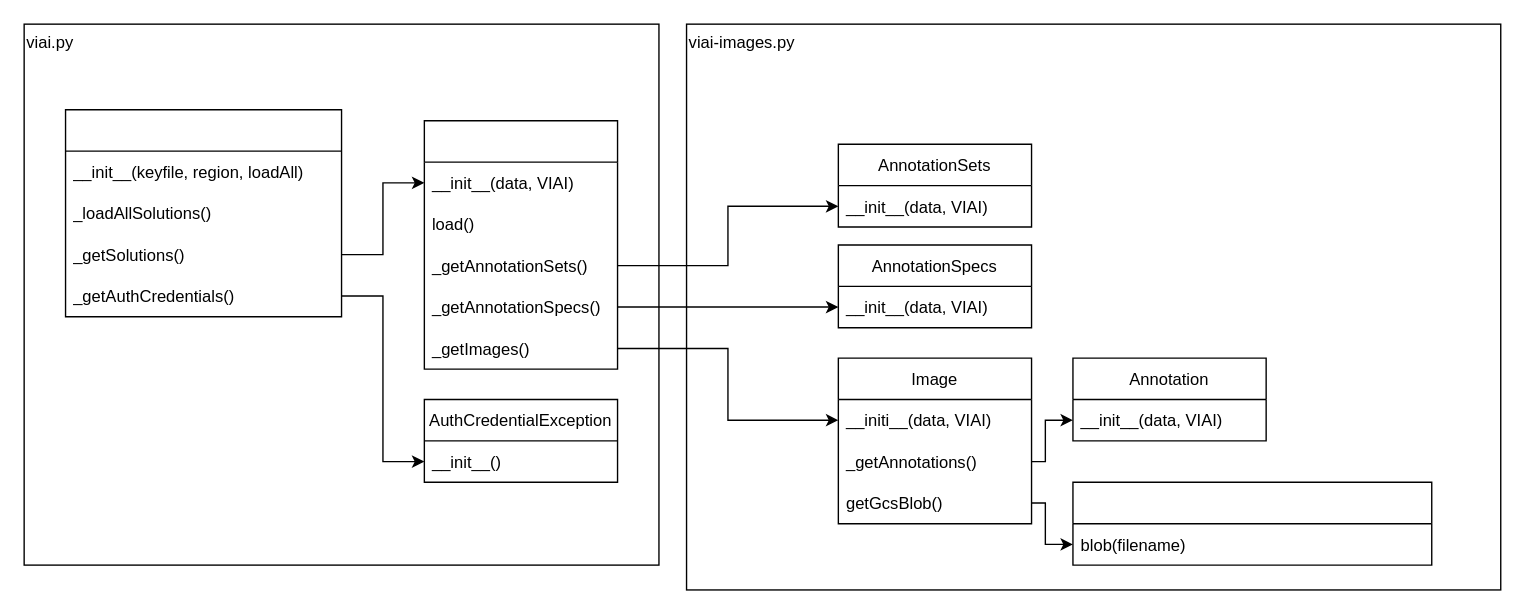
The diagram is 1525 pixels wide and 614 high, and some of its shapes have lost their labels. The shapes that lost their labels are listed below. From the top down, each one's box as (x1, y1, x2, y2) in pixels, then its label:
(64, 108, 342, 317): VIAI
(423, 119, 618, 369): Solution
(1072, 481, 1432, 565): google.cloud.storage.Client.get_bucket(bucket)
